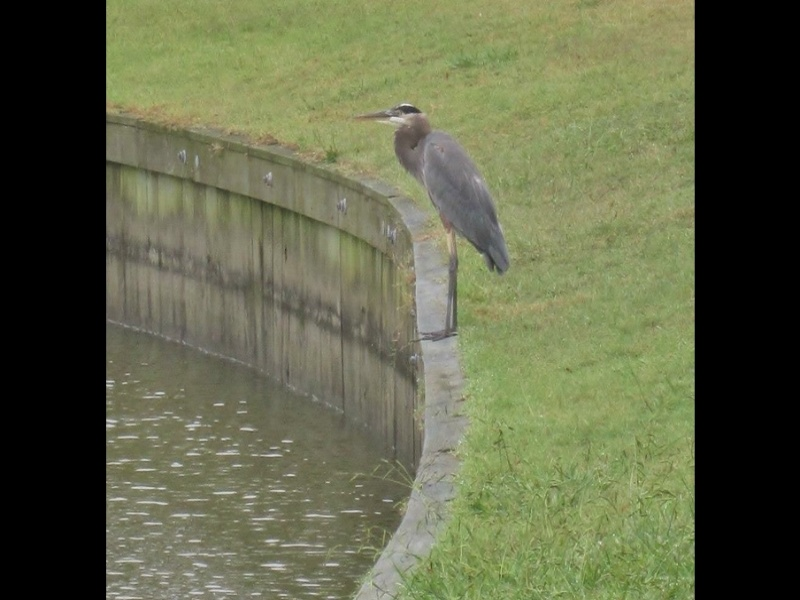heron: (355, 98, 513, 342)
